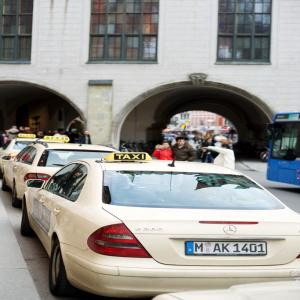Vehicle-registration-plate: (179, 240, 277, 264)
